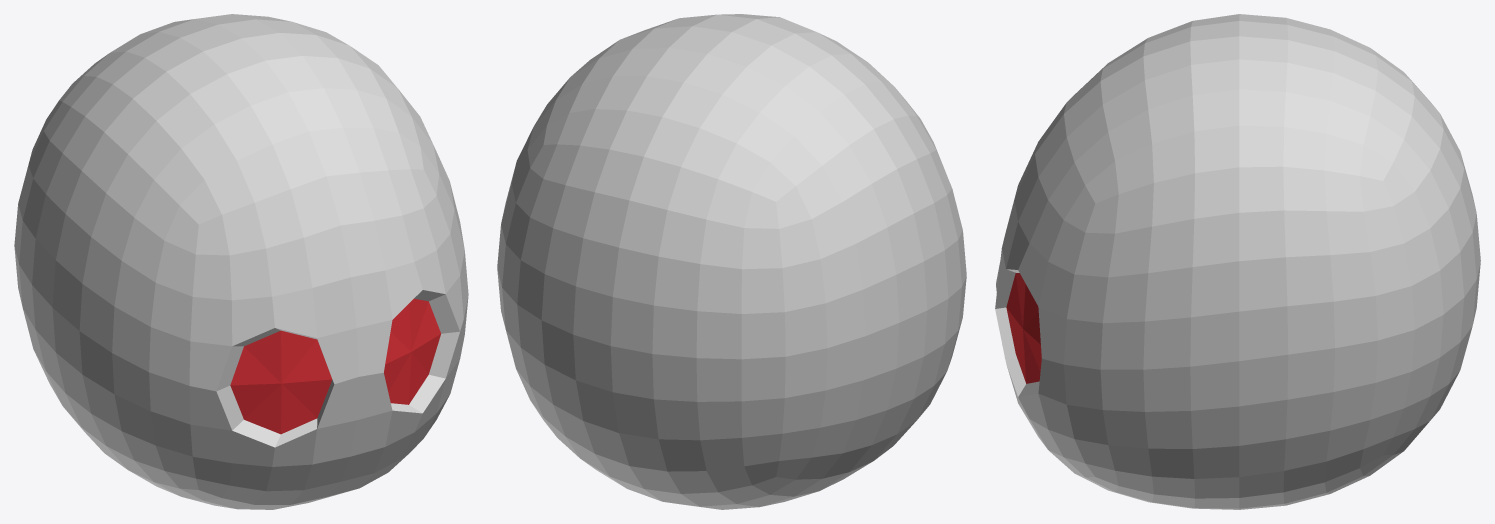
Rendered from FireSpirit.fbx.
3 views of the same model, side by side, from view 1: azimuth 30°, elevation 25°; view 2: azimuth 150°, elevation 25°; view 3: azimuth 270°, elevation 25° (orthographic). The views are drawn at different scales.
Visible parts, largest first — view 1: Cube; view 2: Cube; view 3: Cube.
Part boxes in pixels (x1=…): Cube: x1=14, y1=14, x2=468, y2=509; Cube: x1=497, y1=14, x2=966, y2=509; Cube: x1=995, y1=14, x2=1480, y2=509.
Bounding box in the file's own units: 156 × 173 × 169.
